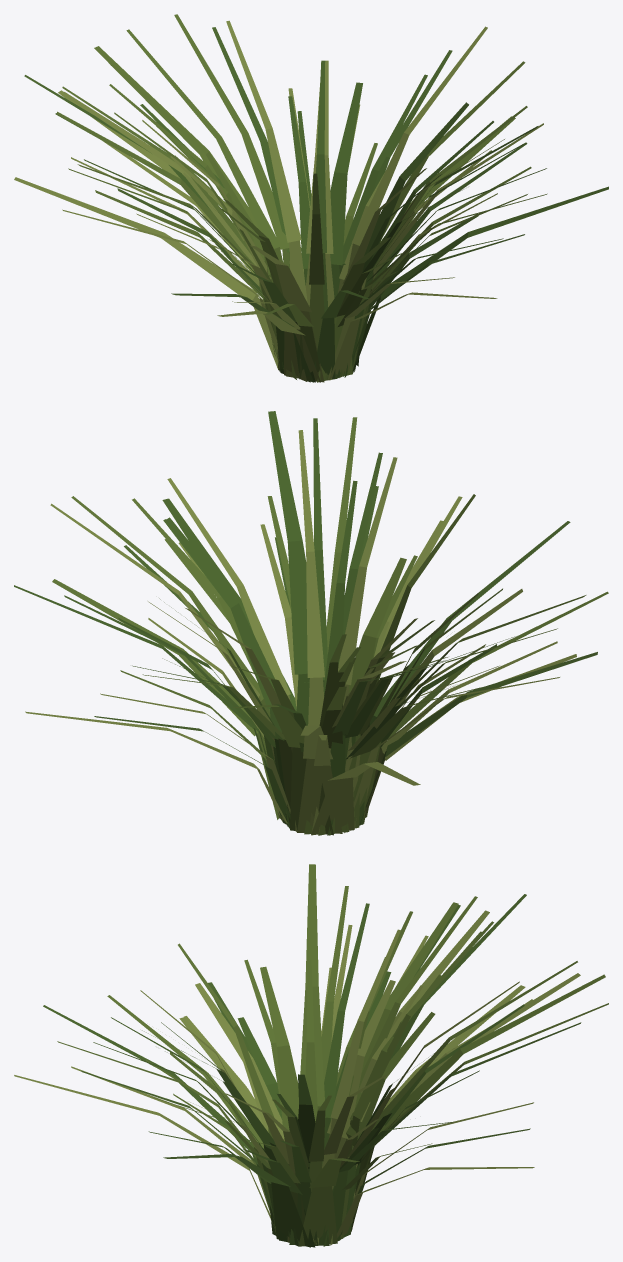
Rendered from pilot_grass_tuft.glb.
3 views of the same model, one above another, from view 1: azimuth 30°, elevation 25°; view 2: azimuth 150°, elevation 25°; view 3: azimuth 270°, elevation 25° (orthographic). The views are drawn at different scales.
Visible parts, largest first — view 1: pilot_grass_tuft_blades, pilot_grass_tuft_blades.001; view 2: pilot_grass_tuft_blades, pilot_grass_tuft_blades.001; view 3: pilot_grass_tuft_blades, pilot_grass_tuft_blades.001.
Boxes of the visible parts, box(x1,y1,x2,y2) form: pilot_grass_tuft_blades: box(24, 14, 547, 380); pilot_grass_tuft_blades.001: box(14, 46, 608, 382); pilot_grass_tuft_blades: box(14, 417, 608, 826); pilot_grass_tuft_blades.001: box(52, 411, 597, 835); pilot_grass_tuft_blades: box(14, 886, 608, 1245); pilot_grass_tuft_blades.001: box(142, 864, 605, 1247).
Bounding box in the file's own units: 0.8994 × 0.5065 × 1.03.
